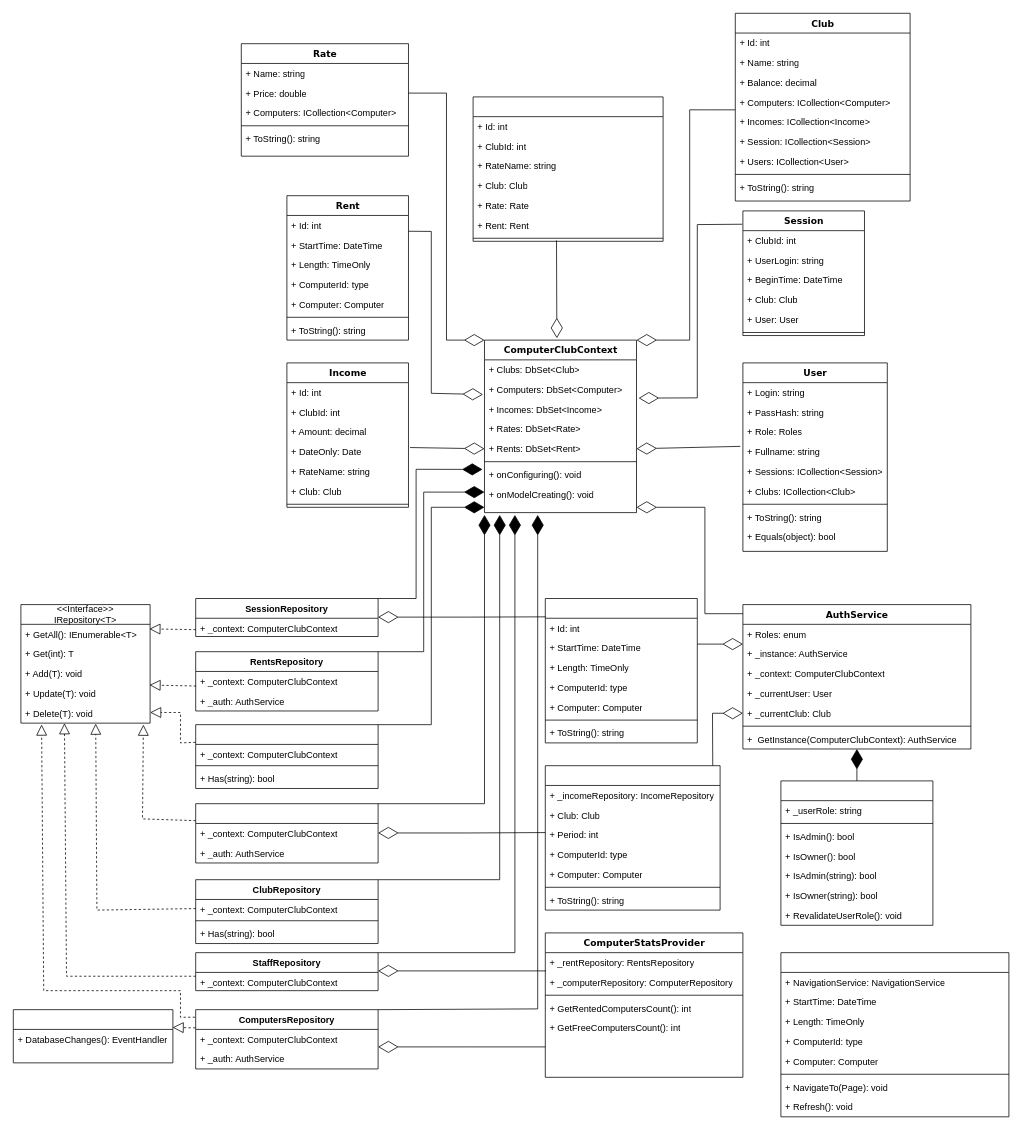
This 1022x1132 diagram has some shape labels left out. The box of each missing label's shape, as (x1, y1, x2, y2) in pixels:
<<Interface>> IChangeNotifier: (13, 1009, 173, 1063)
Computer: (472, 96, 663, 241)
IncomeRepository: (195, 803, 378, 863)
IncomeStatsProvider: (545, 765, 720, 910)
NavService: (780, 952, 1009, 1117)
RatesRepository: (195, 724, 378, 788)
RoleIdentityService: (780, 780, 933, 925)
SessionStatsProvider: (545, 598, 697, 743)
